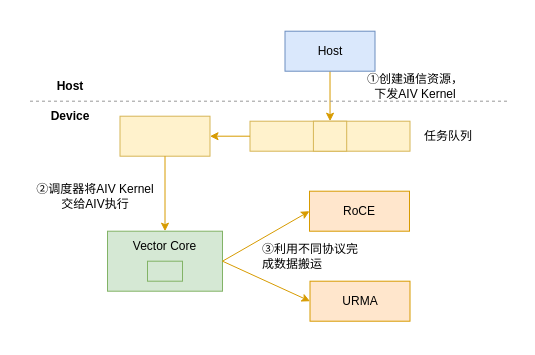
The diagram is 535 pixels wide and 355 high, and some of its shapes have lost their labels. The centre of each missing label's shape, as x and y in pixels:
MTE: [164,270]
调度器: [164,135]
